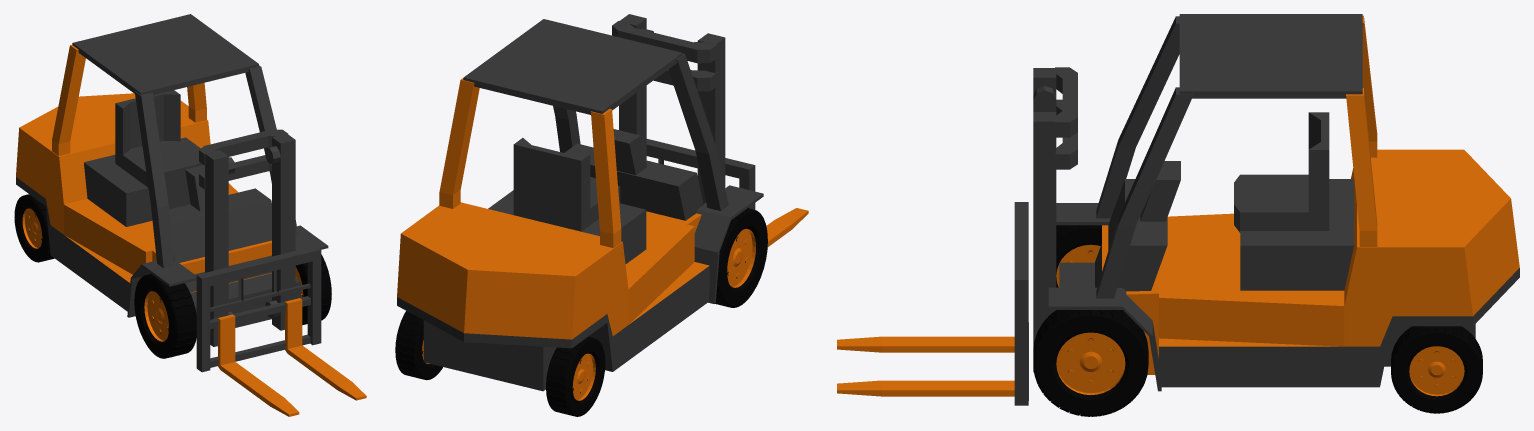
Rendered from forklift_0_1.fbx.
3 views of the same model, side by side, from view 1: azimuth 30°, elevation 25°; view 2: azimuth 150°, elevation 25°; view 3: azimuth 270°, elevation 25° (orthographic). The views are drawn at different scales.
Parts seen in each view (by area): view 1: Cube.005, Cube.002, Cube.003, Cube.006, Cube.001, Cylinder.004, Cube.004, Cylinder.005, Cylinder.001; view 2: Cube.005, Cube.006, Cube.003, Cylinder.004, Cylinder.005, Cylinder.003, Cube.002, Cube.004, Cube.001; view 3: Cube.005, Cylinder.001, Cube.003, Cylinder.003, Cube.006, Cube.001, Cube.002, Cylinder.004, Cube.004.
Boxes of the visible parts, bbox=[...] form: Cube.005: bbox=[16, 14, 328, 327]; Cube.002: bbox=[196, 246, 321, 372]; Cube.003: bbox=[199, 129, 295, 346]; Cube.006: bbox=[115, 90, 202, 189]; Cube.001: bbox=[218, 298, 366, 416]; Cylinder.004: bbox=[134, 273, 196, 358]; Cube.004: bbox=[213, 135, 288, 330]; Cylinder.005: bbox=[14, 194, 54, 262]; Cylinder.001: bbox=[295, 254, 331, 324]; Cube.005: bbox=[397, 19, 763, 391]; Cube.006: bbox=[513, 137, 620, 231]; Cube.003: bbox=[612, 14, 725, 187]; Cylinder.004: bbox=[715, 208, 767, 307]; Cylinder.005: bbox=[546, 336, 605, 416]; Cylinder.003: bbox=[395, 311, 442, 380]; Cube.002: bbox=[646, 139, 755, 209]; Cube.004: bbox=[627, 16, 715, 203]; Cube.001: bbox=[766, 208, 808, 246]; Cube.005: bbox=[1048, 14, 1519, 391]; Cylinder.001: bbox=[1033, 310, 1148, 416]; Cube.003: bbox=[1033, 67, 1077, 372]; Cylinder.003: bbox=[1391, 326, 1482, 413]; Cube.006: bbox=[1234, 112, 1329, 232]; Cube.001: bbox=[837, 336, 1014, 396]; Cube.002: bbox=[1014, 202, 1028, 405]; Cylinder.004: bbox=[1056, 225, 1101, 287]; Cube.004: bbox=[1033, 73, 1056, 116].
Bounding box in the file's own units: 106 × 152 × 296.
